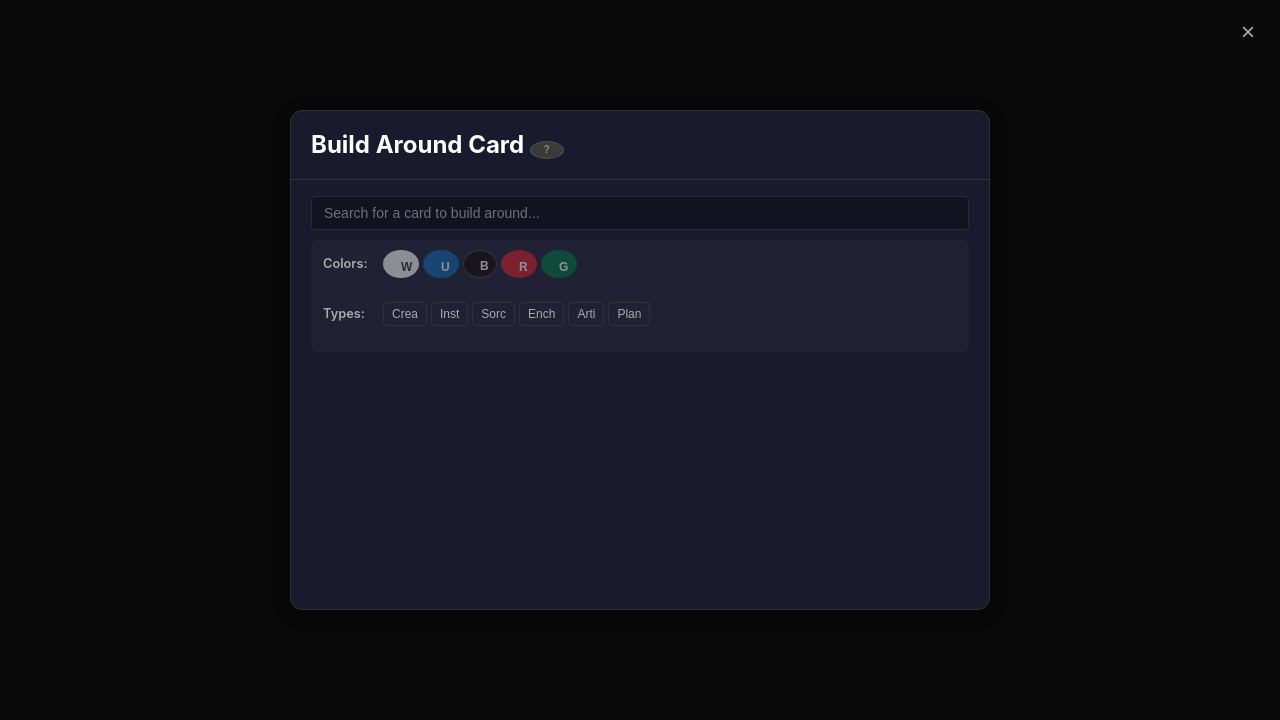
Test: BuildAroundSeedModal › should select a card and show build options
In the field with placeholder "Search for a card to build around...": [640, 213] box [311,196,969,230], type "Test Build"
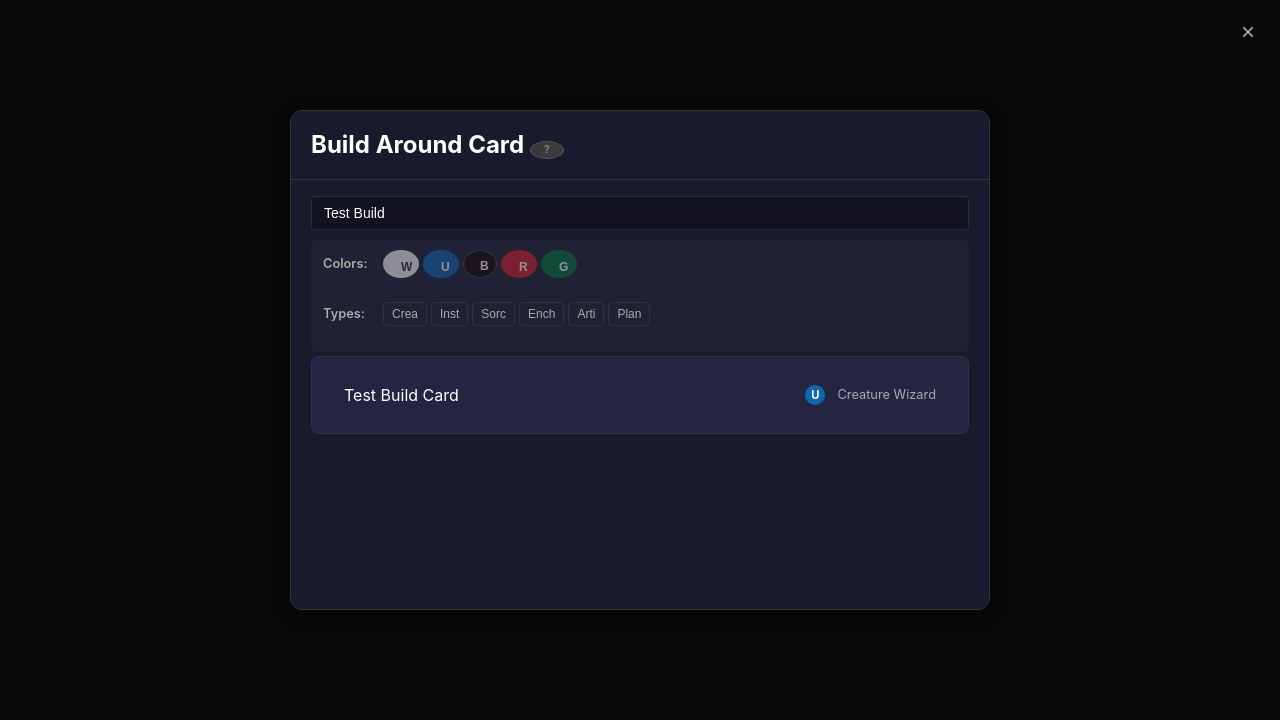
Check: the text "Test Build Card" is shown
// Click on search result
Click the text "Test Build Card": [401, 395] box [344,385,459,405]
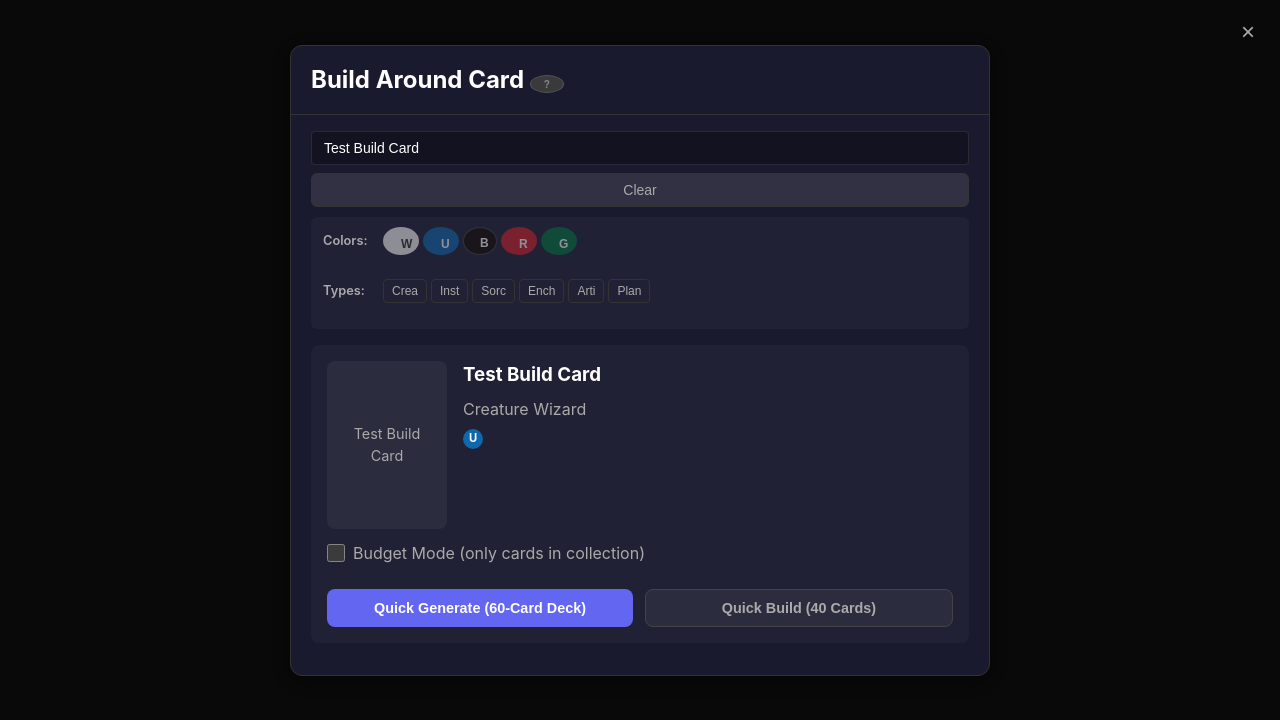
Check: the button "Quick Build (40 Cards)" is shown, box [645,588,953,626]
